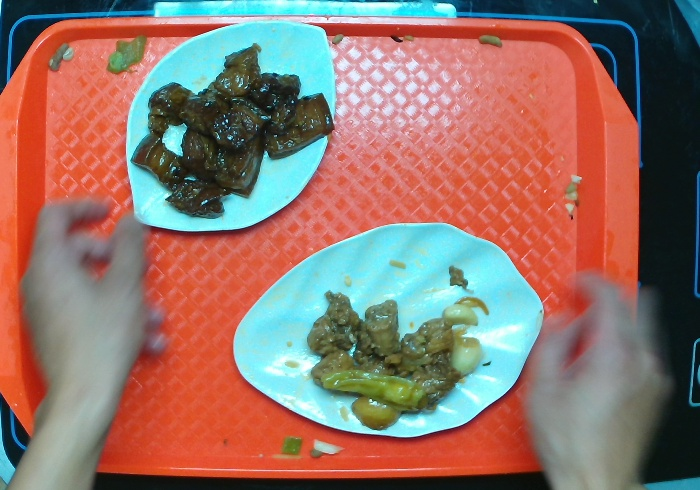RJxy-Bai_Ye_Pan: (233, 220, 549, 440)
RJxy-Da_Du_Pan: (126, 17, 337, 234)
